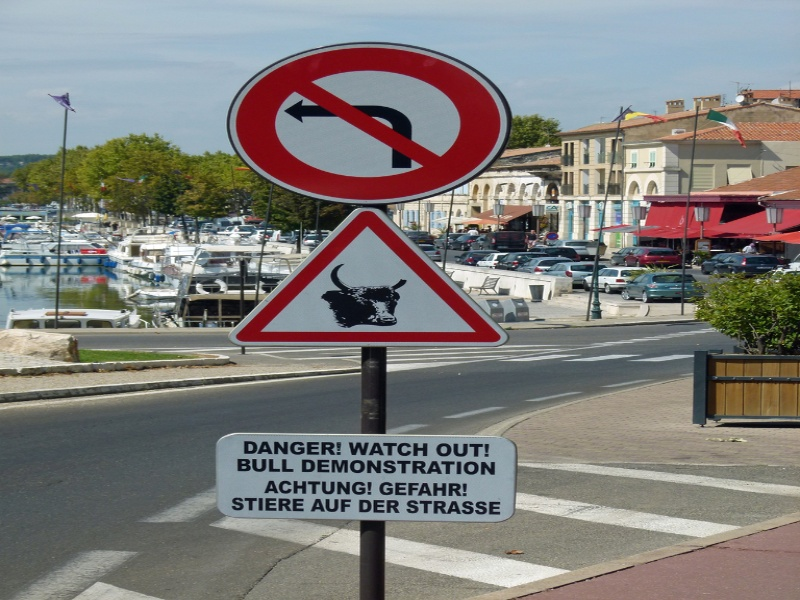animal_ahead: (207, 184, 498, 375)
no_left_turn: (226, 46, 536, 211)
